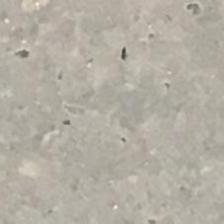Non_Crack: (12, 0, 204, 200)
